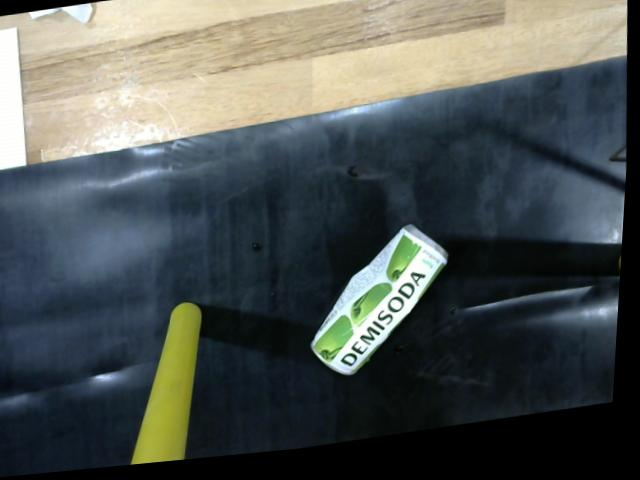can: (304, 227, 462, 392)
